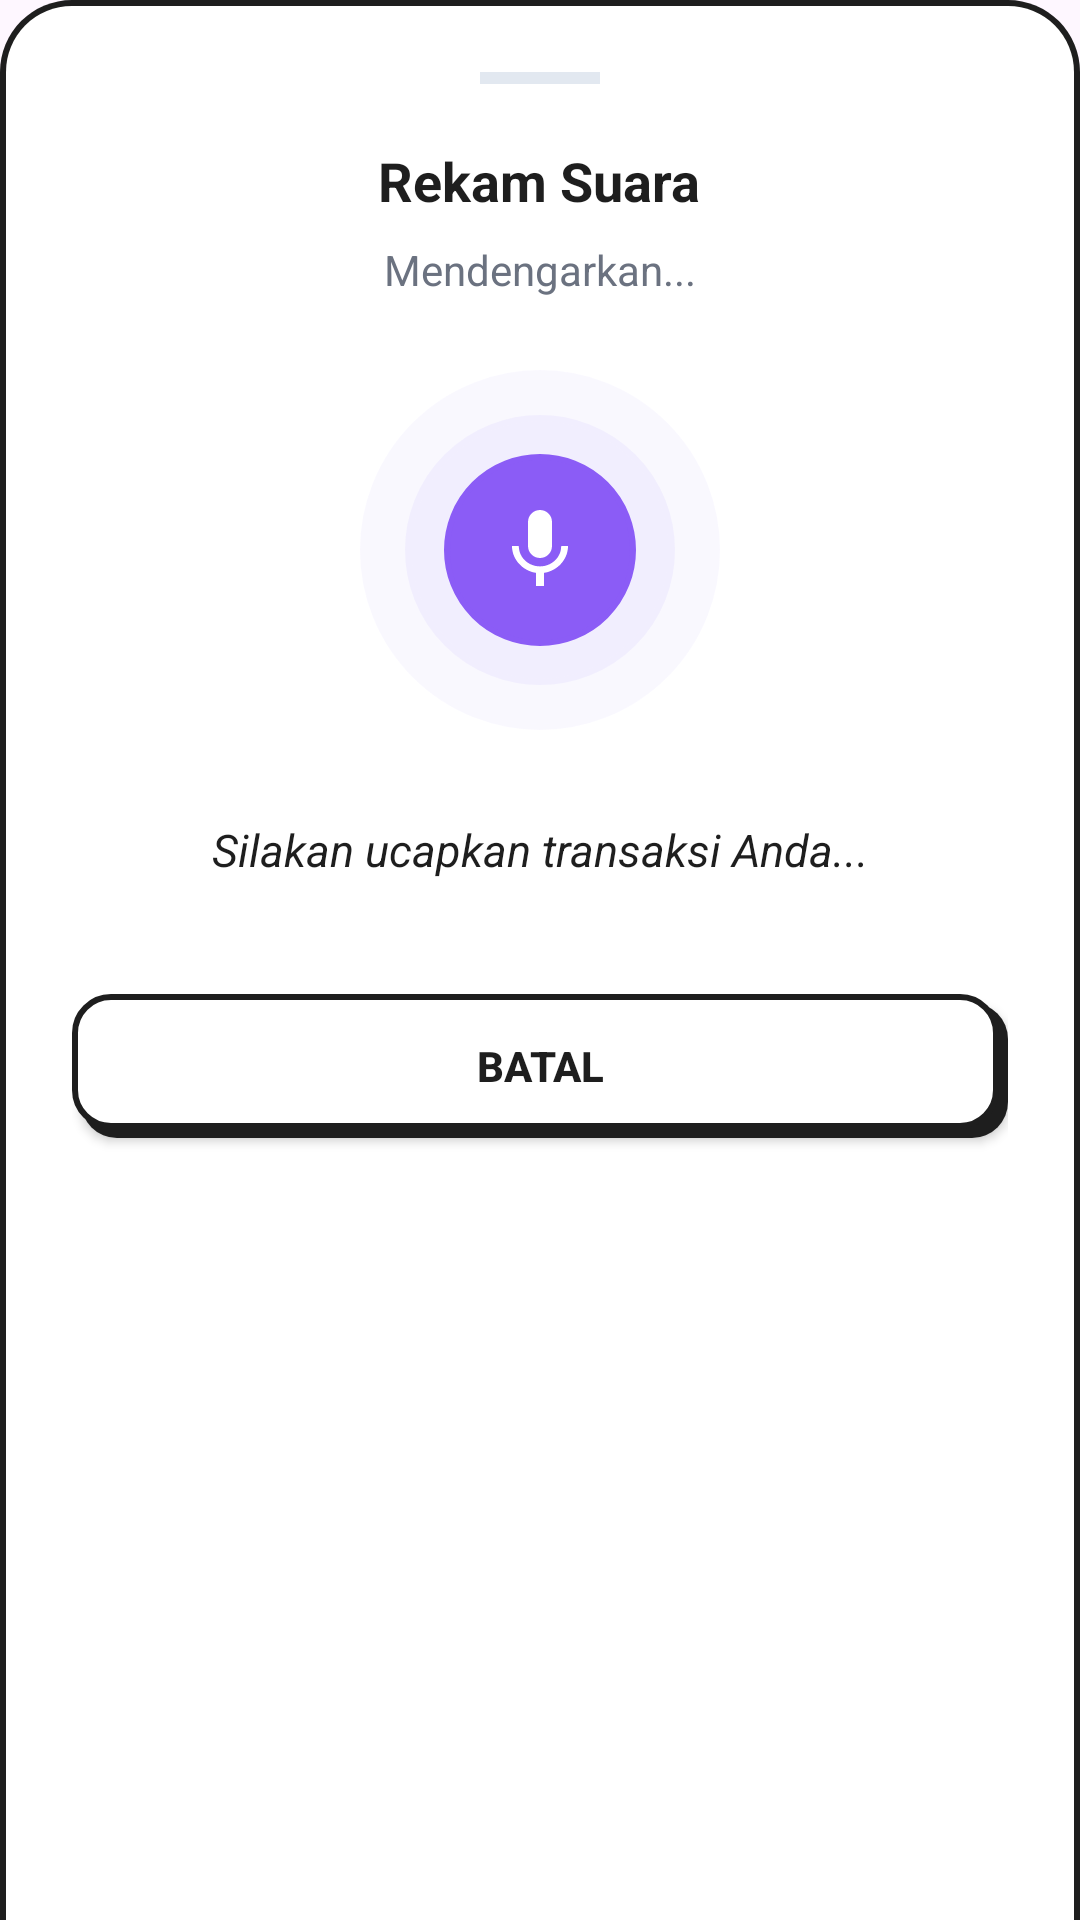

Screen size 1080 x 1920. Icon name, then its box in pixels as BBox(x1, y1, x2, y2):
mic: BBox(444, 454, 636, 646)
